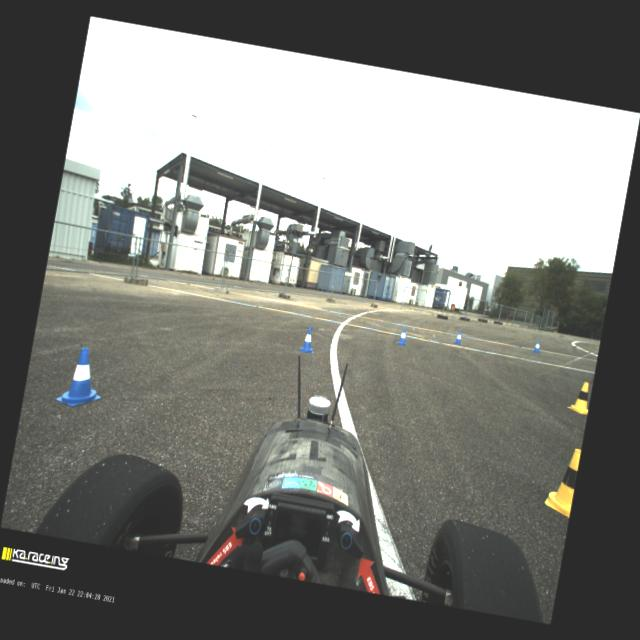blue_cone: (55, 344, 109, 411), (298, 325, 318, 353), (396, 326, 410, 346), (532, 338, 542, 354), (453, 330, 463, 344)
yellow_cone: (542, 444, 581, 518), (566, 379, 592, 414)
